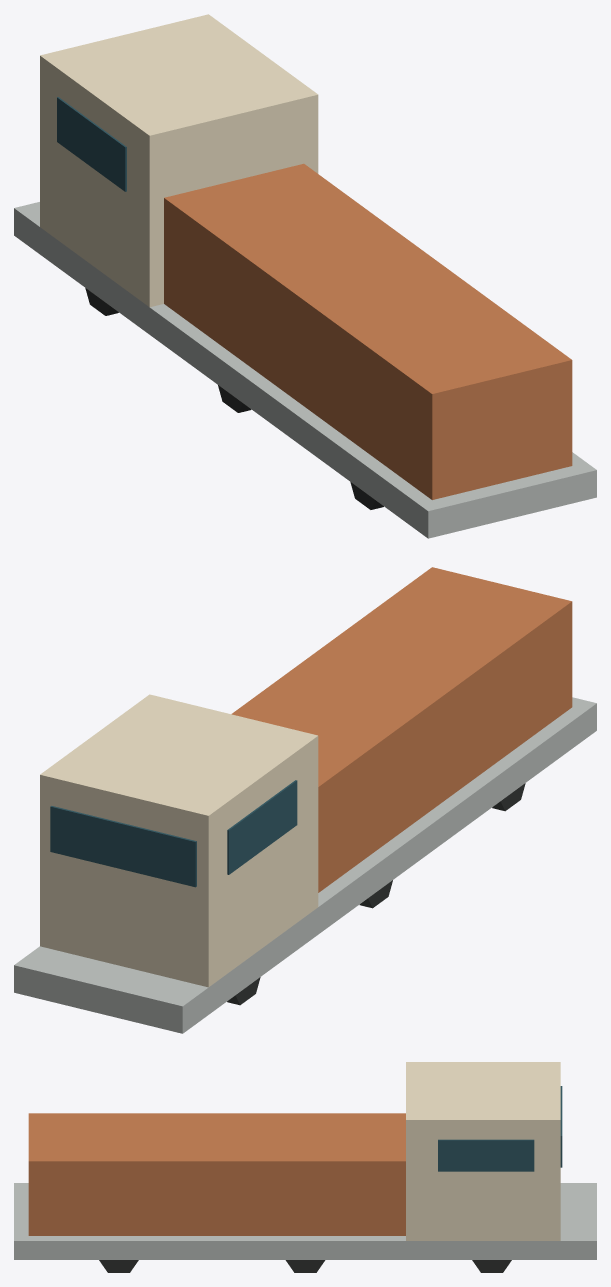
The model's file is train_far.glb.
3 views of the same model, one above another, from view 1: azimuth 30°, elevation 25°; view 2: azimuth 150°, elevation 25°; view 3: azimuth 270°, elevation 25° (orthographic). The views are drawn at different scales.
Parts seen in each view (by area): view 1: Long engine hood, Tall cab, Rail chassis, TrainModel traffic_glass, TrainModel traffic_rubber; view 2: Tall cab, Long engine hood, Rail chassis, TrainModel traffic_glass, TrainModel traffic_rubber; view 3: Long engine hood, Tall cab, Rail chassis, TrainModel traffic_glass, TrainModel traffic_rubber.
Part boxes in pixels (x1,y1,x2,y2): Long engine hood: [164, 163, 572, 499]; Tall cab: [40, 14, 318, 307]; Rail chassis: [14, 202, 596, 538]; TrainModel traffic_glass: [57, 97, 126, 191]; TrainModel traffic_rubber: [85, 288, 383, 509]; Tall cab: [40, 694, 318, 987]; Long engine hood: [231, 567, 572, 892]; Rail chassis: [14, 697, 596, 1033]; TrainModel traffic_glass: [50, 780, 297, 887]; TrainModel traffic_rubber: [227, 783, 525, 1005]; Long engine hood: [28, 1113, 405, 1235]; Tall cab: [406, 1062, 560, 1240]; Rail chassis: [14, 1183, 596, 1259]; TrainModel traffic_glass: [438, 1086, 562, 1171]; TrainModel traffic_rubber: [99, 1260, 511, 1272].
Bounding box in the file's own units: 2.65 × 3.26 × 11.05.
